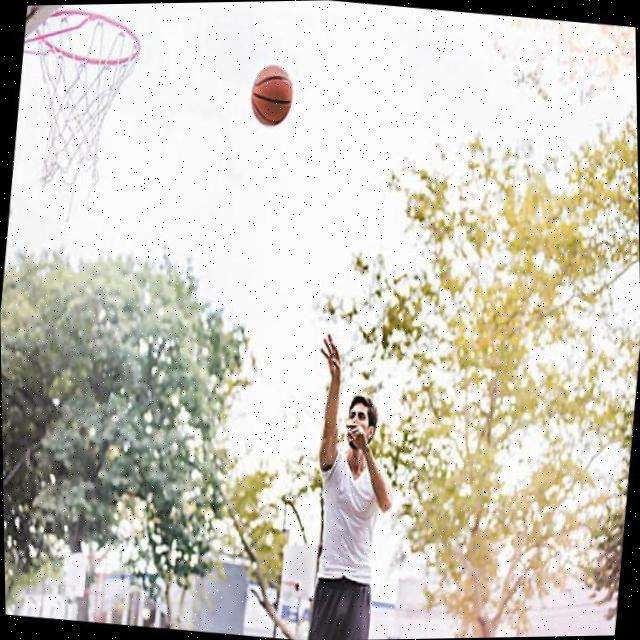ball: (248, 61, 295, 128)
hoop: (36, 11, 142, 62)
